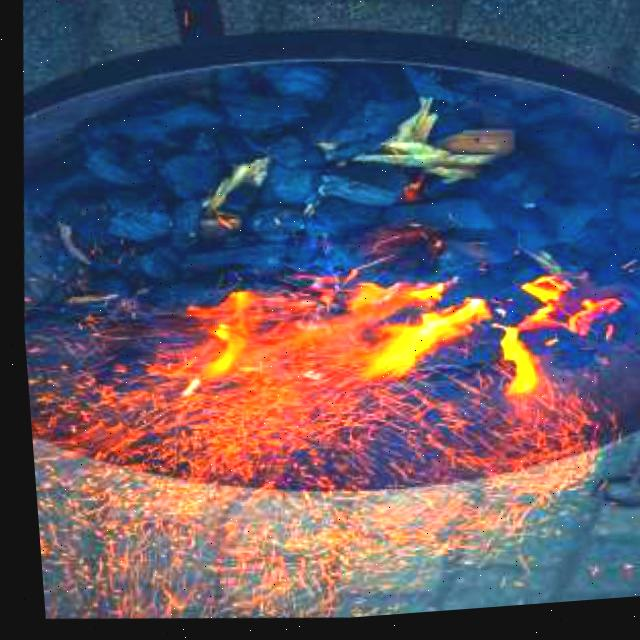Fire: (118, 252, 568, 473)
